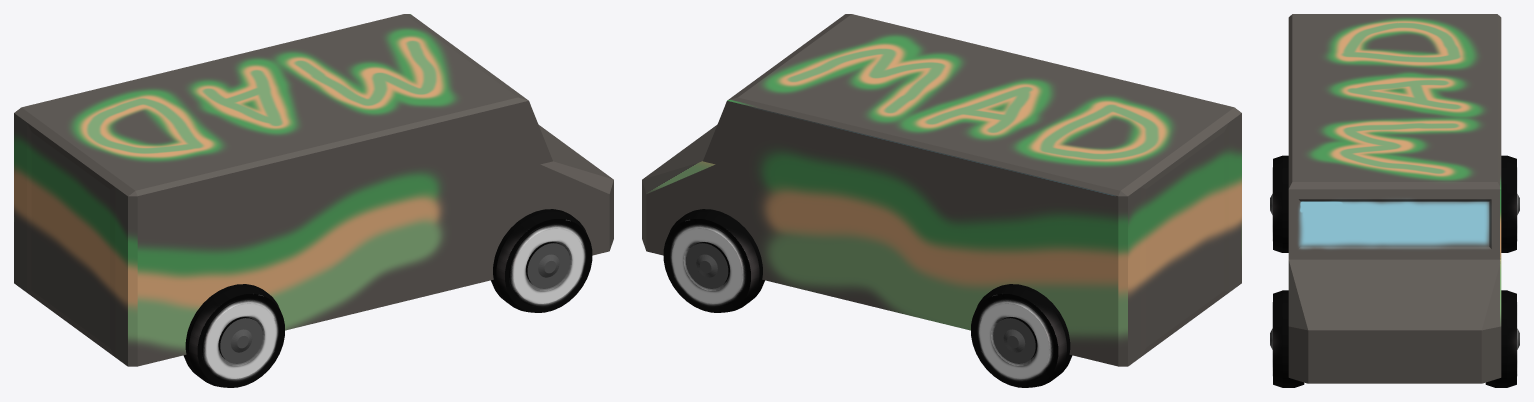
The model's file is delivery_truck.fbx.
The picture shows the model from 3 angles, left to right: view 1: azimuth 30°, elevation 25°; view 2: azimuth 150°, elevation 25°; view 3: azimuth 270°, elevation 25°; orthographic projection. The views are drawn at different scales.
Parts seen in each view (by area): view 1: Cube, Wheel, Wheel.003; view 2: Cube, Wheel.001, Wheel.002; view 3: Cube, Wheel, Wheel.001, Wheel.002, Wheel.003.
Part boxes in pixels (<box>): Cube: <box>14,14,613,366</box>; Wheel: <box>491,209,592,312</box>; Wheel.003: <box>183,284,284,387</box>; Cube: <box>642,14,1241,366</box>; Wheel.001: <box>663,209,764,312</box>; Wheel.002: <box>971,284,1072,387</box>; Cube: <box>1288,14,1501,383</box>; Wheel: <box>1270,290,1304,387</box>; Wheel.001: <box>1485,290,1519,387</box>; Wheel.002: <box>1501,155,1519,252</box>; Wheel.003: <box>1270,155,1288,252</box>.
Size of the model in its own units: 966 by 400 by 470.
Materials: 2 (2 with a texture image).
